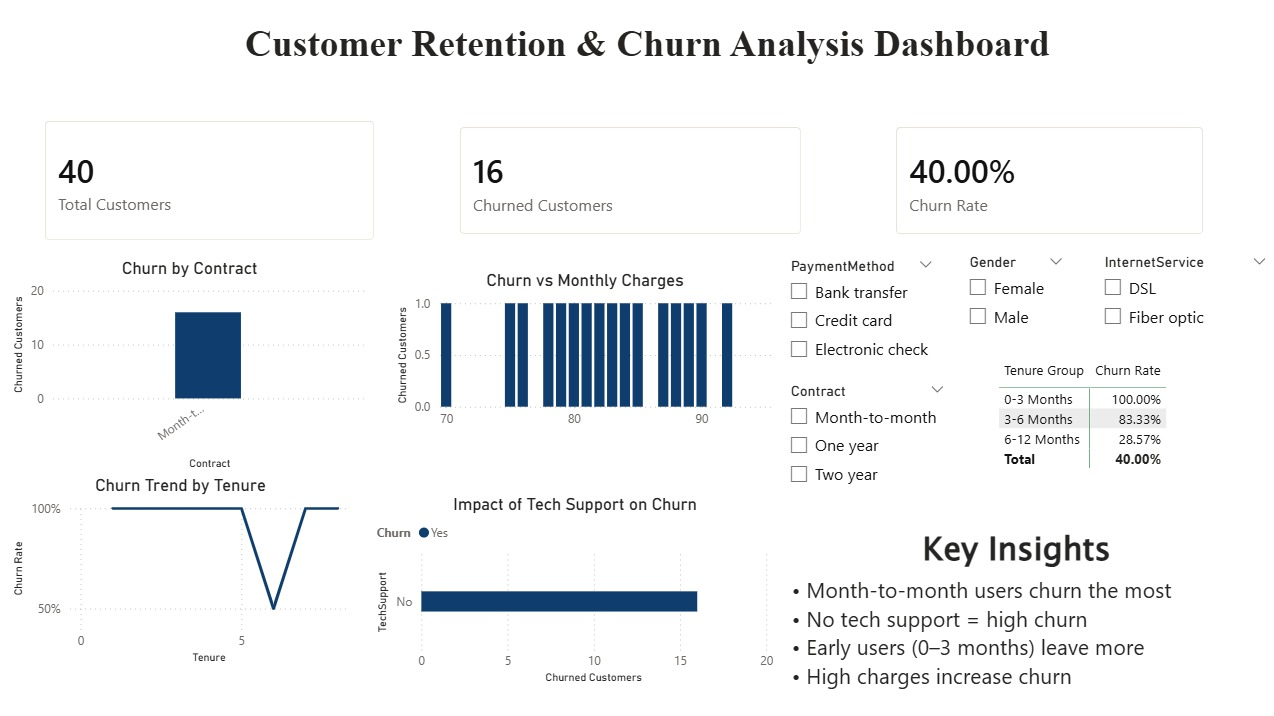

The dashboard page shown, as its layout file describes it:
{"tool":"powerbi","page":{"name":"Page 2","canvas":[1280,720],"ordinal":1},"visuals":[{"type":"cardVisual","fields":{"Data":["Sheet1.Total Customers"]},"box":[30,105,363.3,153.3],"z":0},{"type":"cardVisual","fields":{"Data":["Sheet1.Churned Customers"]},"box":[445,111.7,375,141.7],"z":1000},{"type":"cardVisual","fields":{"Data":["Sheet1.Churn Rate"]},"box":[881.7,111.7,341.7,141.7],"z":2000},{"type":"clusteredColumnChart","title":"Churn by Contract","fields":{"Category":["Sheet1.Contract"],"Y":["Sheet1.Churned Customers"]},"box":[10,258.3,363.3,216.7],"z":3000},{"type":"clusteredColumnChart","title":"Churn vs Monthly Charges","fields":{"Category":["Sheet1.MonthlyCharges"],"Y":["Sheet1.Churned Customers"]},"box":[393.3,271.7,386.7,166.7],"z":4000},{"type":"lineChart","title":"Churn Trend by Tenure","fields":{"Category":["Sheet1.Tenure"],"Y":["Sheet1.Churn Rate"]},"box":[10,476.7,345,193.3],"z":5000},{"type":"barChart","title":"Impact of Tech Support on Churn","fields":{"Category":["Sheet1.TechSupport"],"Y":["Sheet1.Churned Customers"],"Series":["Sheet1.Churn"]},"box":[373.3,495,406.7,195],"z":6000},{"type":"pivotTable","fields":{"Rows":["Sheet1.Tenure Group"],"Values":["Sheet1.Churn Rate"]},"box":[996.7,355,283.3,166.7],"z":7000},{"type":"slicer","fields":{"Values":["Sheet1.Gender"]},"box":[958.3,250,118.3,101.7],"z":8000},{"type":"slicer","fields":{"Values":["Sheet1.InternetService"]},"box":[1093.3,250,186.7,105],"z":9000},{"type":"slicer","fields":{"Values":["Sheet1.PaymentMethod"]},"box":[780,253.3,166.7,151.7],"z":10000},{"type":"slicer","fields":{"Values":["Sheet1.Contract"]},"box":[780,378.3,178.3,143.3],"z":11000},{"type":"textbox","box":[788.3,521.7,460,188.3],"z":11001},{"type":"textbox","box":[191.7,0,916.7,90],"z":11002}]}

Visuals, with their boxes in screenshot pixels (x1, y1, x2, y2), scaled from the page's 1280x720 canvas onto the 1274x716 screenshot:
cardVisual - Sheet1.Total Customers: {"x1": 30, "y1": 104, "x2": 391, "y2": 257}
cardVisual - Sheet1.Churned Customers: {"x1": 443, "y1": 111, "x2": 816, "y2": 252}
cardVisual - Sheet1.Churn Rate: {"x1": 878, "y1": 111, "x2": 1218, "y2": 252}
"Churn by Contract" clusteredColumnChart: {"x1": 10, "y1": 257, "x2": 372, "y2": 472}
"Churn vs Monthly Charges" clusteredColumnChart: {"x1": 391, "y1": 270, "x2": 776, "y2": 436}
"Churn Trend by Tenure" lineChart: {"x1": 10, "y1": 474, "x2": 353, "y2": 666}
"Impact of Tech Support on Churn" barChart: {"x1": 372, "y1": 492, "x2": 776, "y2": 686}
pivotTable - Sheet1.Tenure Group x Sheet1.Churn Rate: {"x1": 992, "y1": 353, "x2": 1273, "y2": 519}
slicer - Sheet1.Gender: {"x1": 954, "y1": 249, "x2": 1072, "y2": 350}
slicer - Sheet1.InternetService: {"x1": 1088, "y1": 249, "x2": 1273, "y2": 353}
slicer - Sheet1.PaymentMethod: {"x1": 776, "y1": 252, "x2": 942, "y2": 403}
slicer - Sheet1.Contract: {"x1": 776, "y1": 376, "x2": 954, "y2": 519}
textbox: {"x1": 785, "y1": 519, "x2": 1242, "y2": 706}
textbox: {"x1": 191, "y1": 0, "x2": 1103, "y2": 90}
